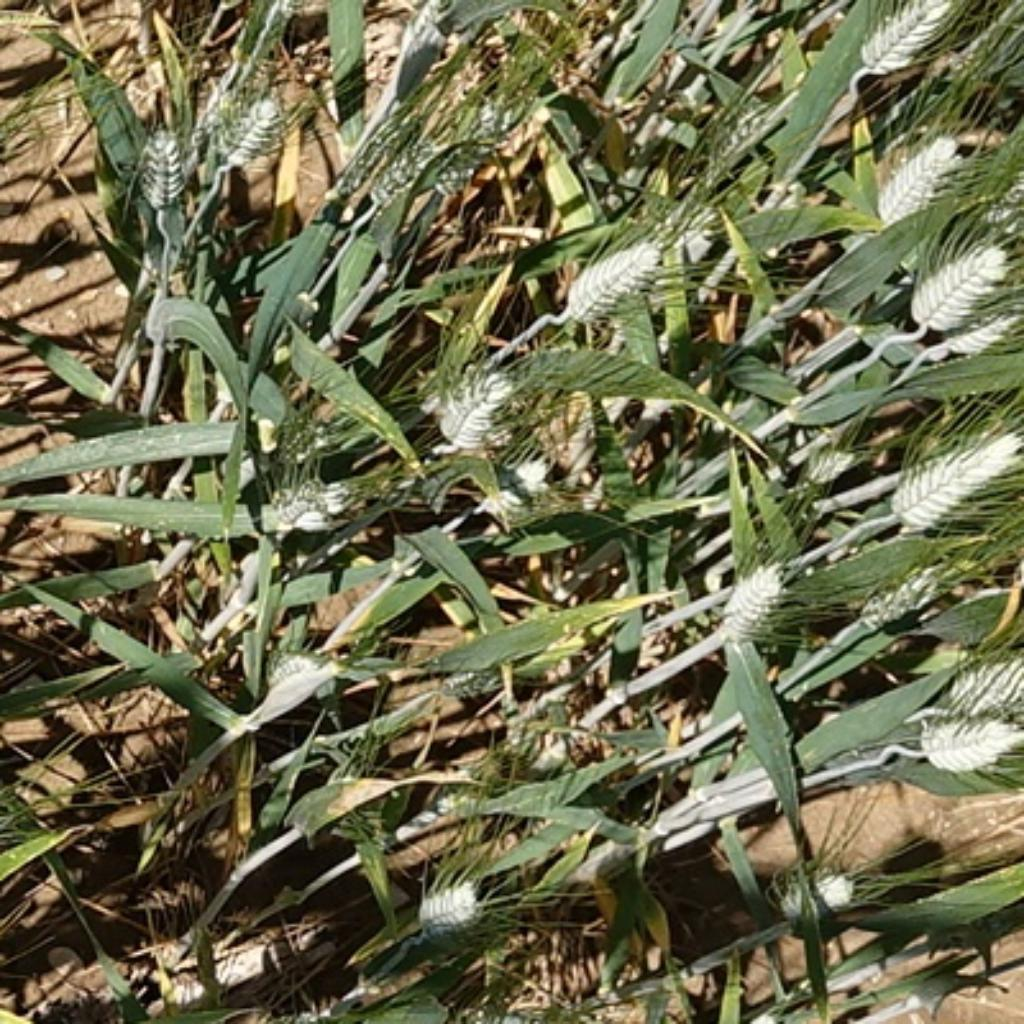0-0: (894, 424, 1024, 531), (424, 94, 535, 215), (898, 230, 1011, 335), (409, 337, 519, 442), (555, 220, 670, 314), (619, 174, 721, 279), (248, 458, 371, 542), (844, 545, 970, 624), (867, 120, 962, 215), (691, 97, 781, 197), (912, 302, 1024, 377), (771, 856, 874, 935), (852, 2, 960, 74), (476, 450, 573, 527), (908, 701, 1018, 768), (221, 96, 311, 176), (127, 118, 201, 215), (363, 125, 442, 215), (711, 550, 791, 637), (401, 865, 491, 939), (924, 645, 1024, 711), (783, 430, 875, 501), (260, 642, 344, 719), (191, 49, 256, 134), (434, 654, 522, 708), (0, 79, 2, 176)
